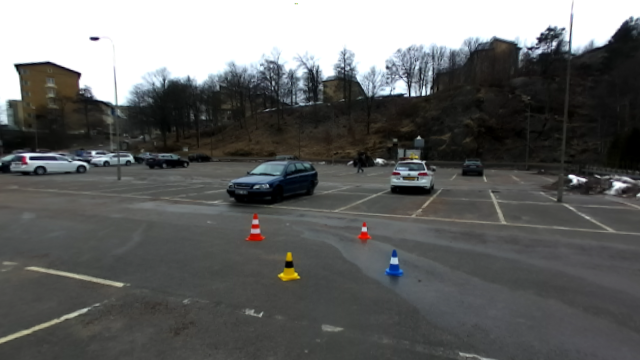blue: (383, 249, 405, 277)
orange: (359, 220, 371, 240)
orange2: (245, 213, 267, 242)
yellow: (278, 250, 300, 283)
